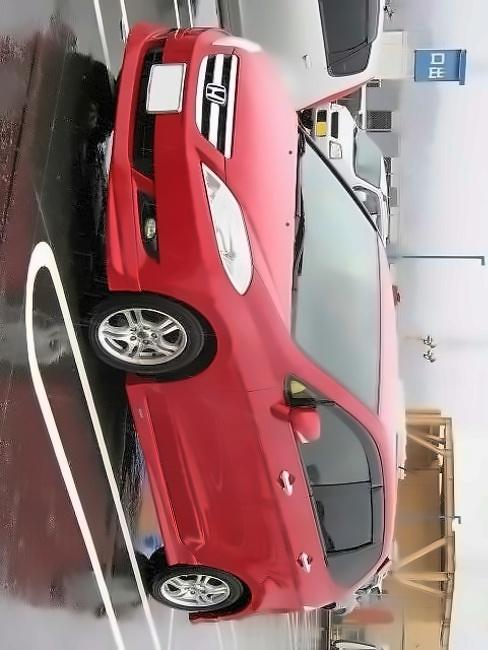Car hood: (234, 42, 310, 291)
Fender - -F-L-: (130, 283, 338, 403)
Fender - -R-L-: (196, 562, 335, 639)
Front bumper: (99, 18, 200, 301)
Headlight - -L-: (189, 153, 260, 301)
Headlight - -R-: (206, 24, 266, 64)
Passenger-s door - -F-L-: (146, 389, 402, 495)
Passenger-s door - -R-L-: (166, 494, 409, 577)
Side bumper - -L-: (119, 373, 203, 571)
Side mirror - -L-: (269, 383, 325, 456)
